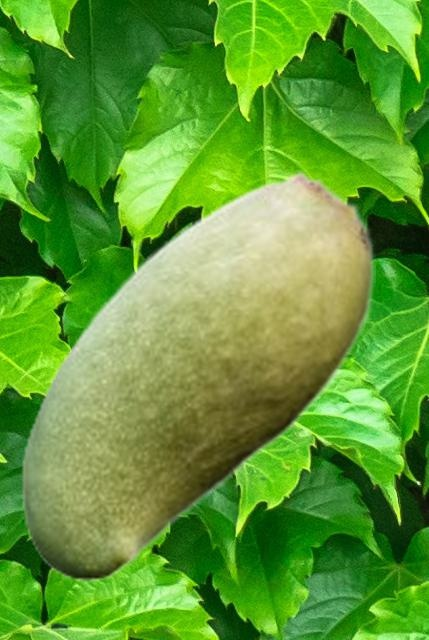green_mango: (20, 170, 374, 579)
